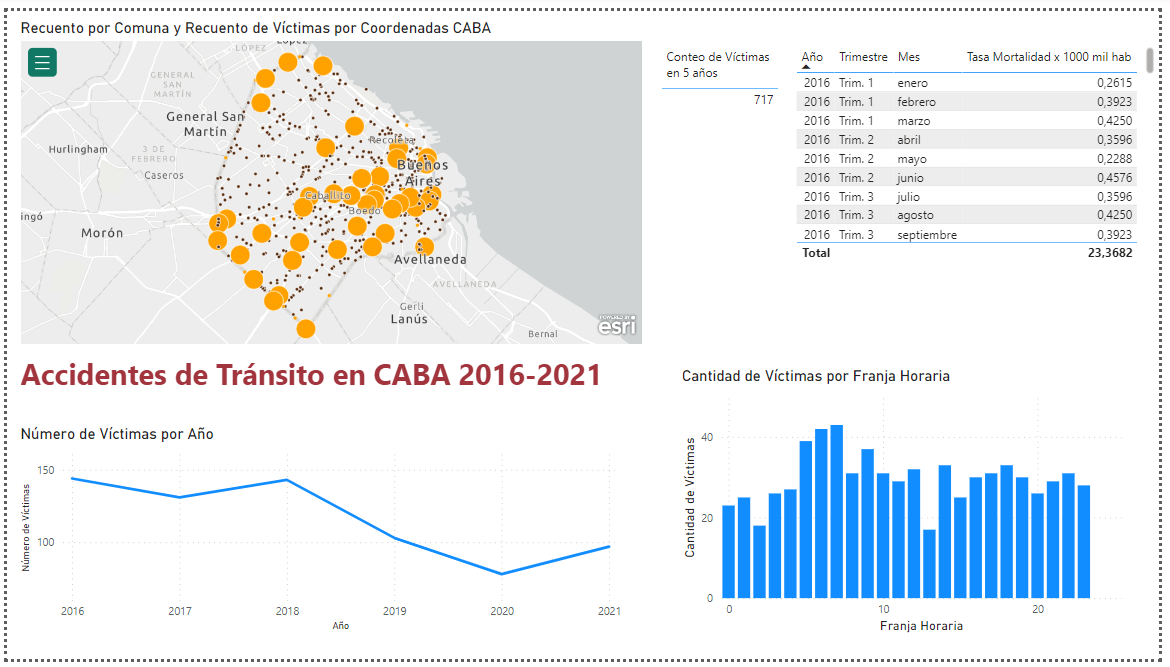

The dashboard page shown, as its layout file describes it:
{"tool":"powerbi","page":{"name":"Visión gral","canvas":[1280,720],"ordinal":0},"visuals":[{"type":"esriVisual","fields":{"Location":["Accid.Coordenadas"],"Size":["CountNonNull(Accid.COMUNA)"],"Color":["CountNonNull(Accid.N_VICTIMAS)"]},"box":[10,8.3,700,366.7],"z":0},{"type":"textbox","box":[10,375,676.7,63.3],"z":1000},{"type":"lineChart","fields":{"Y":["CountNonNull(Accid.N_VICTIMAS)"],"Category":["Accid.AAAA"]},"box":[10,460,676.7,233.3],"z":2000},{"type":"tableEx","fields":{"Values":["Sum(Accid.N_VICTIMAS)"]},"box":[721.7,35,150,93.3],"z":3000},{"type":"tableEx","fields":{"Values":["Accid.FECHA.Variación.Jerarquía de fechas.Año","Accid.FECHA.Variación.Jerarquía de fechas.Trimestre","Accid.FECHA.Variación.Jerarquía de fechas.Mes","Sum(Accid.Div)"]},"box":[872.1,35.6,407.7,247.6],"z":4000},{"type":"columnChart","fields":{"Y":["Sum(Accid.N_VICTIMAS)"],"Category":["Accid.HH"]},"box":[745.7,394.6,498.4,300.2],"z":5000}]}

Visuals, with their boxes in screenshot pixels (x1, y1, x2, y2), scaled from the page's 1280x720 canvas onto the 1170x667 screenshot:
esriVisual - Accid.Coordenadas x CountNonNull(Accid.COMUNA): 9, 8, 649, 347
textbox: 9, 347, 628, 406
lineChart - CountNonNull(Accid.N_VICTIMAS) x Accid.AAAA: 9, 426, 628, 642
tableEx - Sum(Accid.N_VICTIMAS): 660, 32, 797, 119
tableEx - Accid.FECHA.Variación.Jerarquía de fechas.Año x Accid.FECHA.Variación.Jerarquía de fechas.Trimestre: 797, 33, 1169, 262
columnChart - Sum(Accid.N_VICTIMAS) x Accid.HH: 682, 366, 1137, 644
